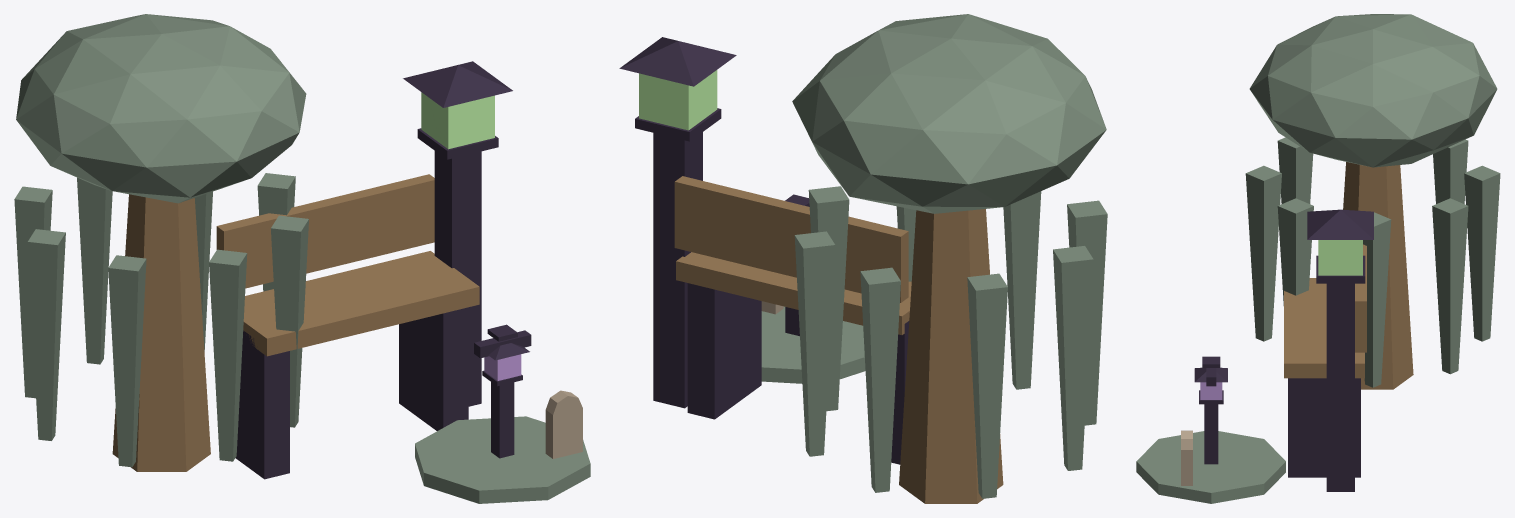
Rendered from graveyard-landmark-s2c.glb.
3 renders of one model, left to right at view 1: azimuth 30°, elevation 25°; view 2: azimuth 150°, elevation 25°; view 3: azimuth 270°, elevation 25°, orthographic. The views are drawn at different scales.
Parts seen in each view (by area): view 1: graveyard-landmark-s2c; view 2: graveyard-landmark-s2c; view 3: graveyard-landmark-s2c.
Boxes of the visible parts, <box> form: graveyard-landmark-s2c: <box>14,14,590,503</box>; graveyard-landmark-s2c: <box>619,14,1107,503</box>; graveyard-landmark-s2c: <box>1136,14,1500,503</box>.
Bounding box in the file's own units: 1.07 × 0.943 × 0.9.
